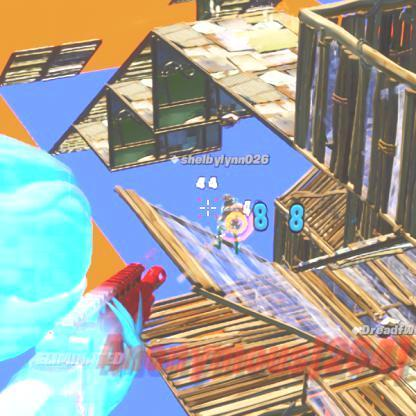person: (218, 188, 245, 256)
